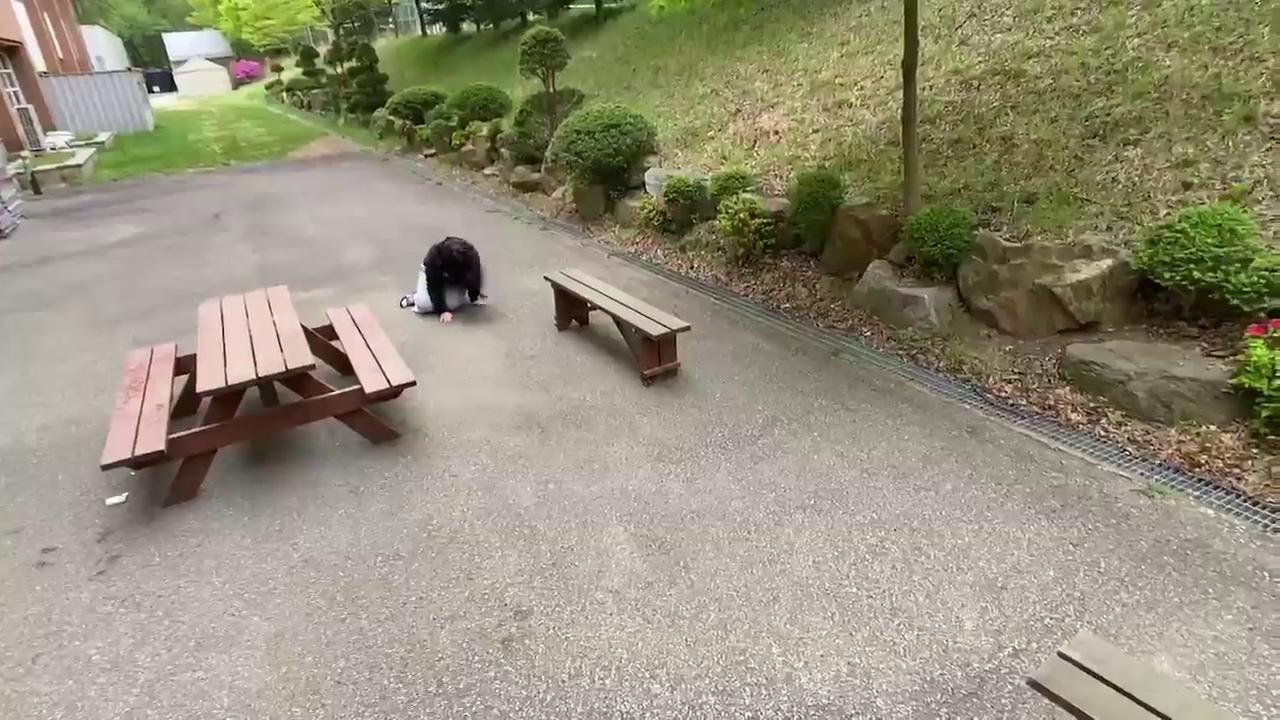fall_down: (396, 234, 494, 326)
